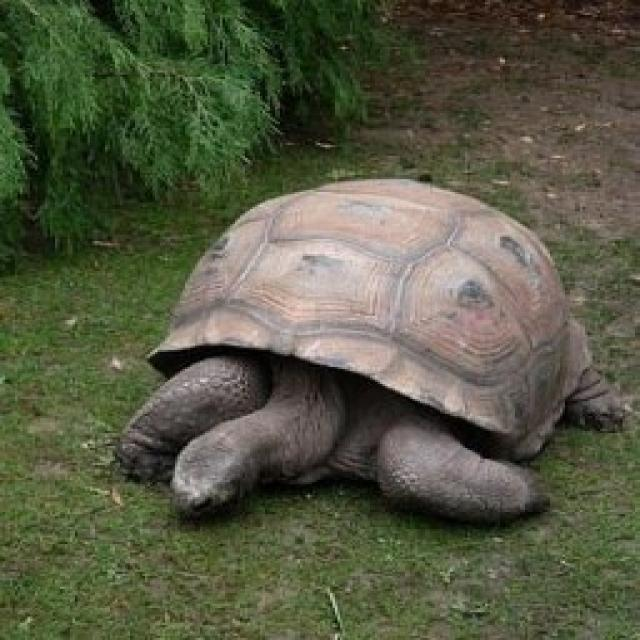Sea turtle: (107, 167, 614, 606)
